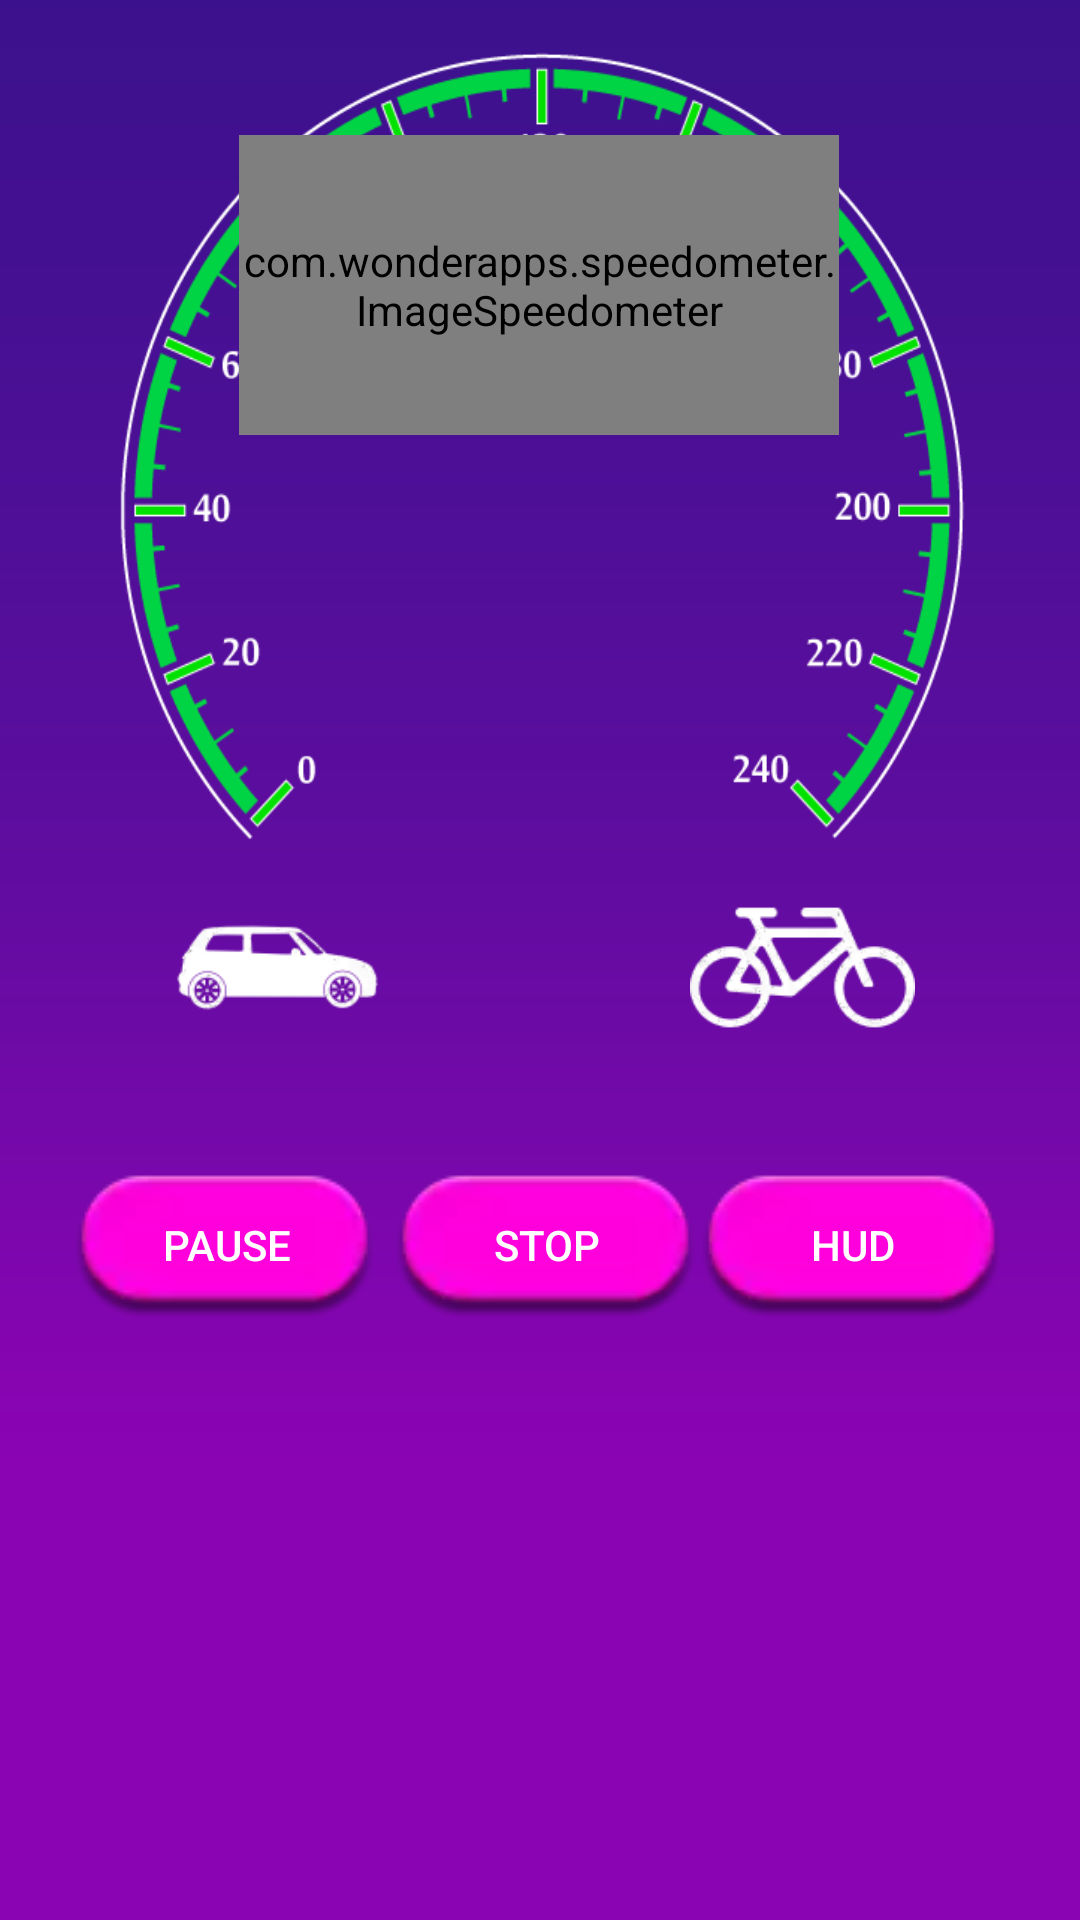

Where icons sit on this 1080 × 1920 app screen, as detection(x1, y1, x2, y2):
carselector: detection(177, 925, 378, 1010)
cycleselector: detection(690, 855, 915, 1028)
